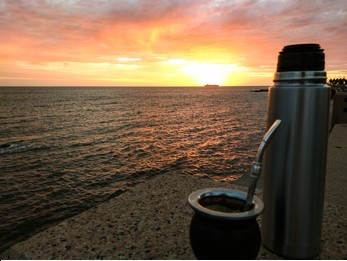calabaza: (184, 184, 263, 257)
mate: (186, 186, 265, 259)
